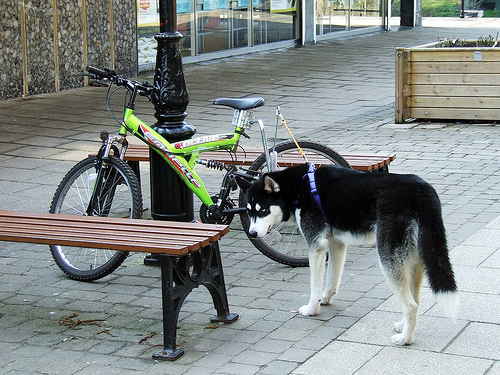dog: (229, 163, 462, 349)
